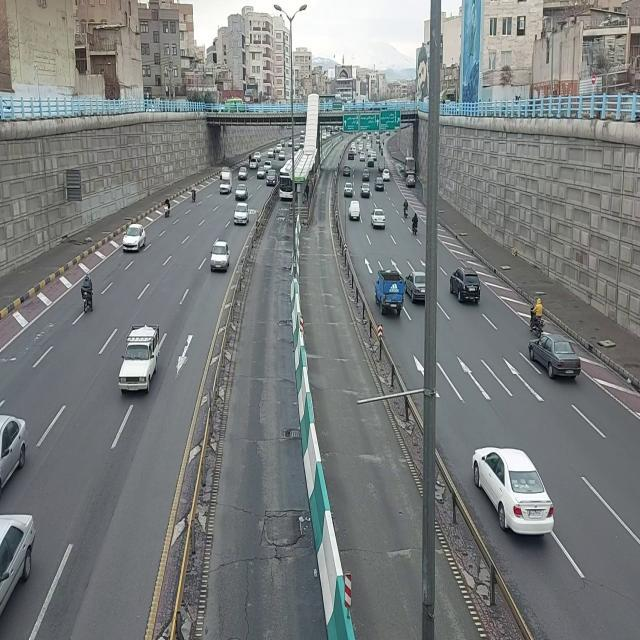Bus: (279, 160, 293, 200)
Car: (469, 443, 557, 540), (527, 330, 583, 386), (449, 267, 483, 307), (123, 223, 147, 253), (210, 241, 230, 274), (233, 202, 251, 226), (370, 209, 386, 230), (235, 183, 249, 200), (266, 169, 278, 187), (360, 182, 372, 198), (343, 181, 353, 199), (238, 166, 249, 180), (406, 174, 416, 189), (257, 165, 267, 179), (382, 168, 392, 182), (362, 167, 371, 181), (249, 157, 258, 170), (343, 165, 351, 179), (279, 149, 287, 161), (368, 157, 375, 169), (267, 146, 273, 160), (348, 150, 355, 161), (359, 151, 365, 163), (294, 142, 301, 152)
Motorcycle: (530, 296, 546, 348), (80, 267, 94, 323), (412, 211, 420, 237), (374, 177, 386, 194), (164, 196, 170, 220), (190, 183, 196, 203), (403, 199, 409, 219), (380, 147, 384, 159), (273, 149, 277, 161)
Pickup: (119, 316, 163, 399), (375, 269, 405, 325), (348, 196, 362, 222), (219, 168, 231, 198), (378, 155, 384, 173)
